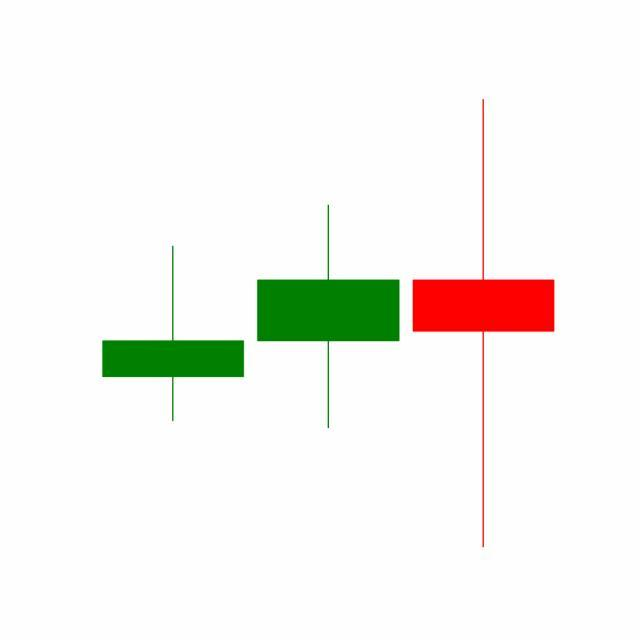Spinning Top: (250, 203, 407, 432)
